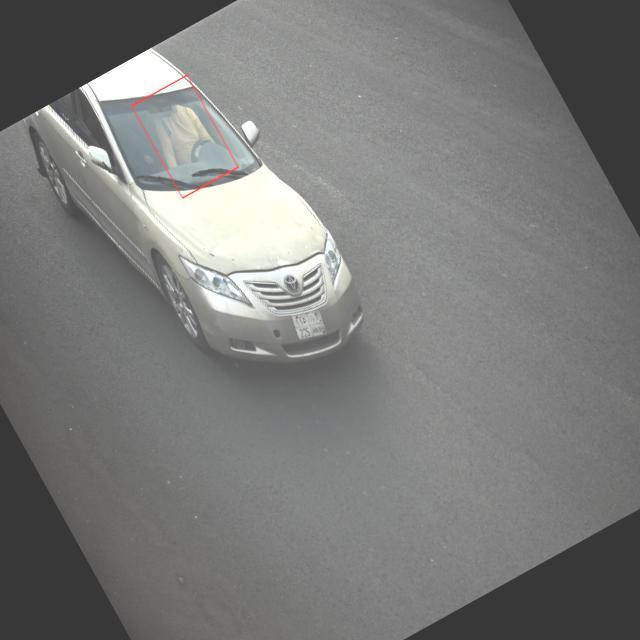windshield: (95, 84, 262, 194)
